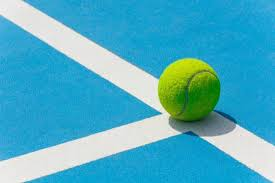tennis_ball: (157, 57, 222, 122)
